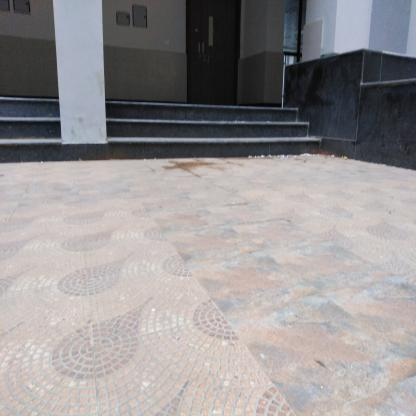stairs: (111, 99, 300, 165)
